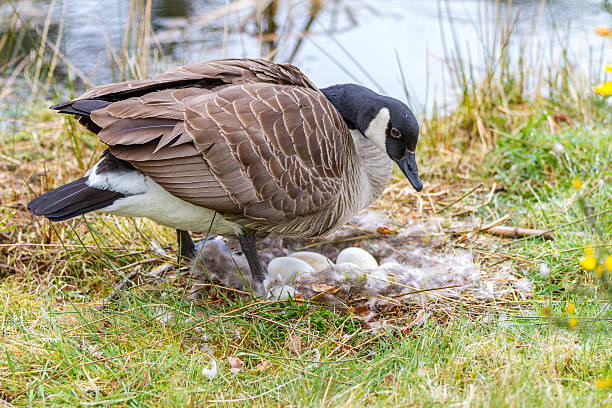goose: (24, 55, 426, 294)
